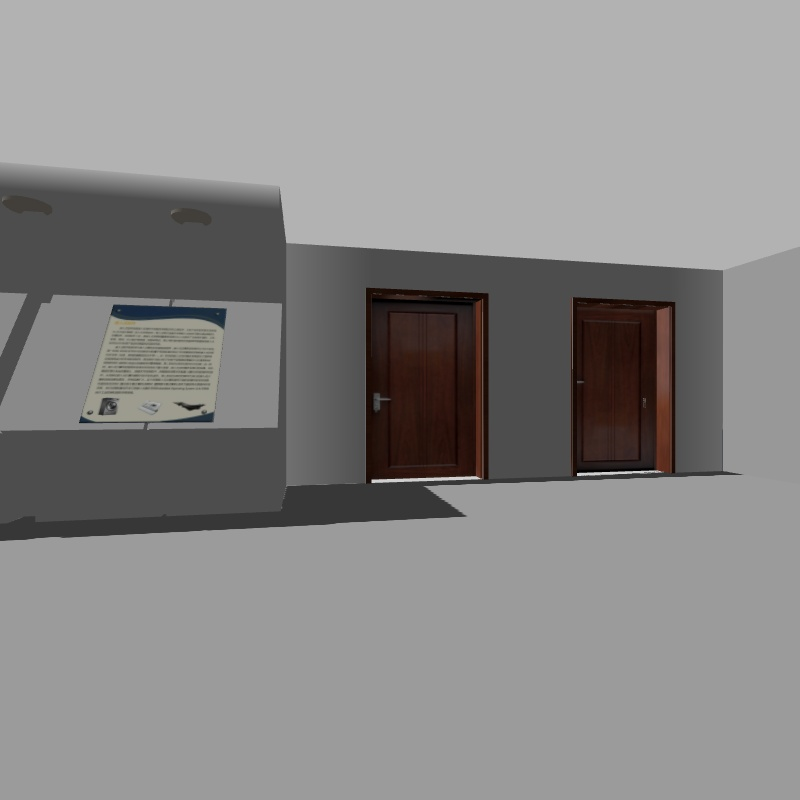handle: (365, 381, 393, 413), (568, 373, 591, 386)
